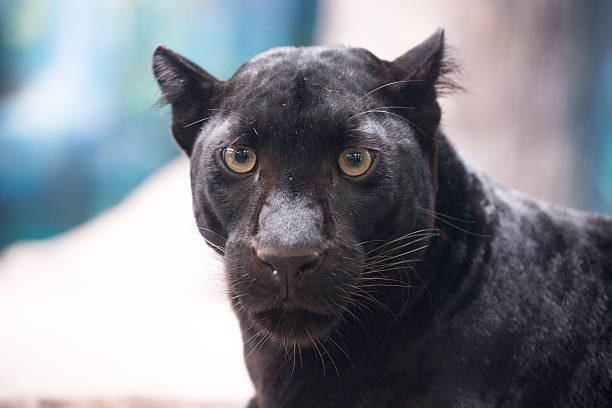panther: (102, 12, 532, 390)
